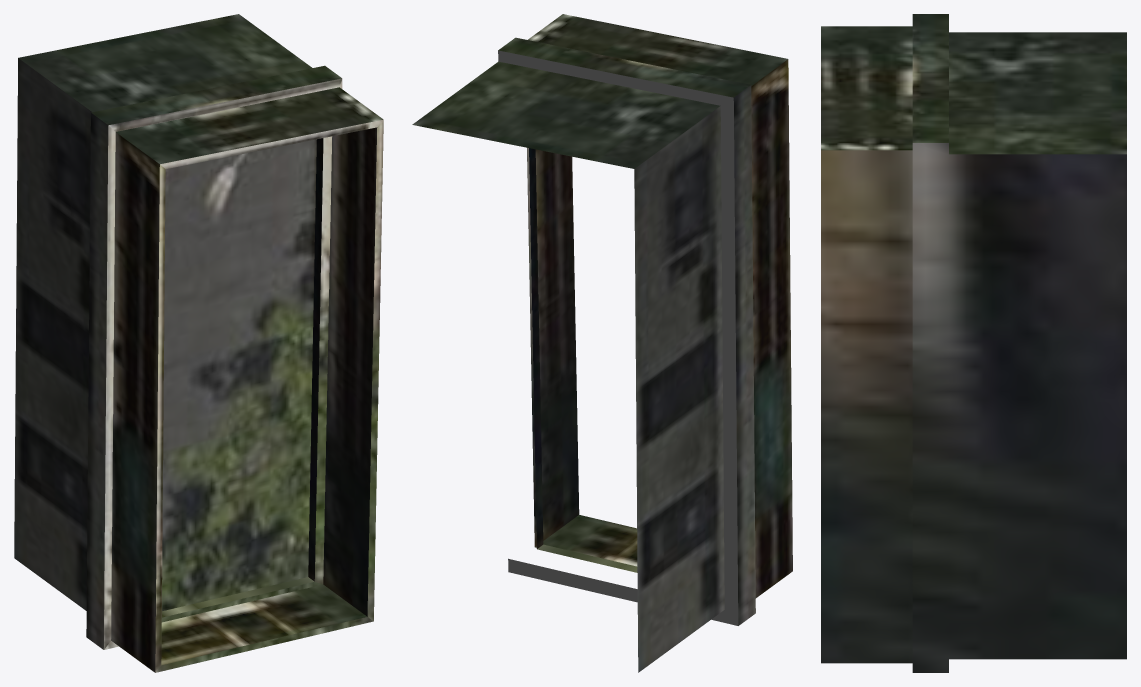
The model's file is input.glb.
3 renders of one model, left to right at view 1: azimuth 30°, elevation 25°; view 2: azimuth 150°, elevation 25°; view 3: azimuth 270°, elevation 25°, orthographic. The views are drawn at different scales.
Visible parts, largest first — view 1: B213323371901062A0.gltf; view 2: B213323371901062A0.gltf; view 3: B213323371901062A0.gltf.
Part boxes in pixels (left/top/right/bottom): B213323371901062A0.gltf: left=14, top=14, right=383, bottom=672; B213323371901062A0.gltf: left=412, top=14, right=792, bottom=672; B213323371901062A0.gltf: left=821, top=14, right=1126, bottom=672.
Size of the model in its own units: 3.81 by 8.02 by 4.08.
1 material, 1 textured.
